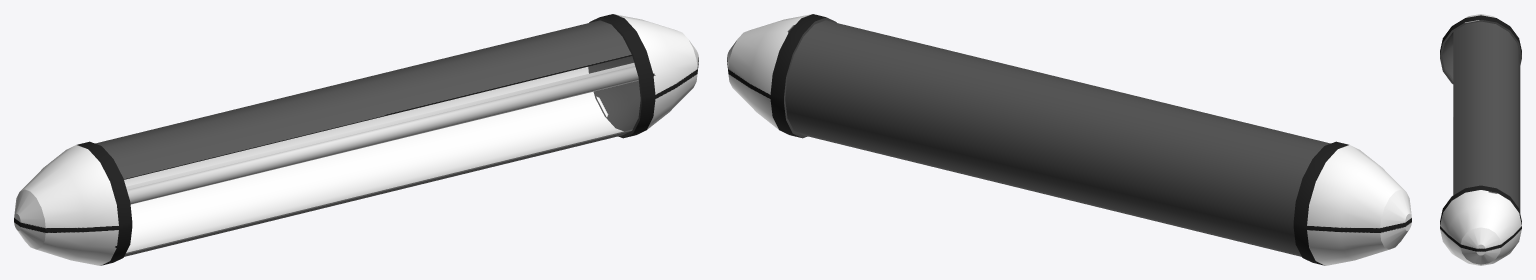
Rendered from Hard_Light_Bridge.fbx.
3 renders of one model, left to right at view 1: azimuth 30°, elevation 25°; view 2: azimuth 150°, elevation 25°; view 3: azimuth 270°, elevation 25°, orthographic. The views are drawn at different scales.
Parts seen in each view (by area): view 1: BeamEmitter, light; view 2: BeamEmitter; view 3: BeamEmitter.
Part boxes in pixels (box(x1,y1,x2,y2)): BeamEmitter: box(14, 14, 698, 265); light: box(126, 63, 638, 204); BeamEmitter: box(727, 14, 1411, 265); BeamEmitter: box(1440, 14, 1521, 265).
Size of the model in its own units: 253 by 40 by 39.68.
2 materials, 1 textured.
